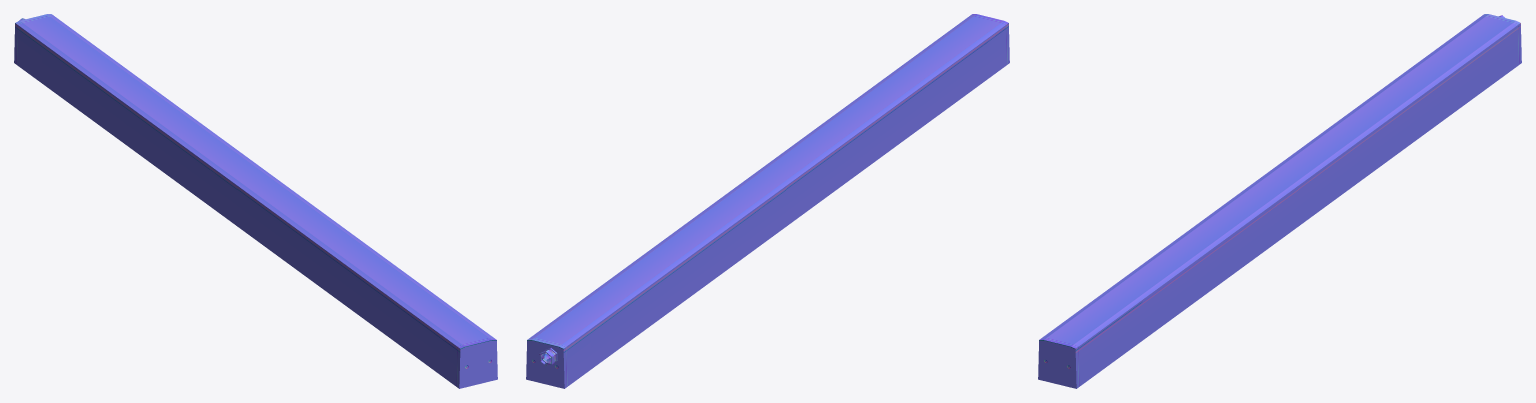
The model's file is prop_lamp.fbx.
3 views of the same model, side by side, from view 1: azimuth 30°, elevation 25°; view 2: azimuth 150°, elevation 25°; view 3: azimuth 330°, elevation 25° (orthographic).
Visible parts, largest first — view 1: LOWPOLY_LAMP; view 2: LOWPOLY_LAMP; view 3: LOWPOLY_LAMP.
Boxes of the visible parts, <box> form: LOWPOLY_LAMP: <box>14,14,497,388</box>; LOWPOLY_LAMP: <box>526,14,1009,388</box>; LOWPOLY_LAMP: <box>1038,14,1521,388</box>.
Bounding box in the file's own units: 200 × 203 × 4067.
1 material, 1 textured.
